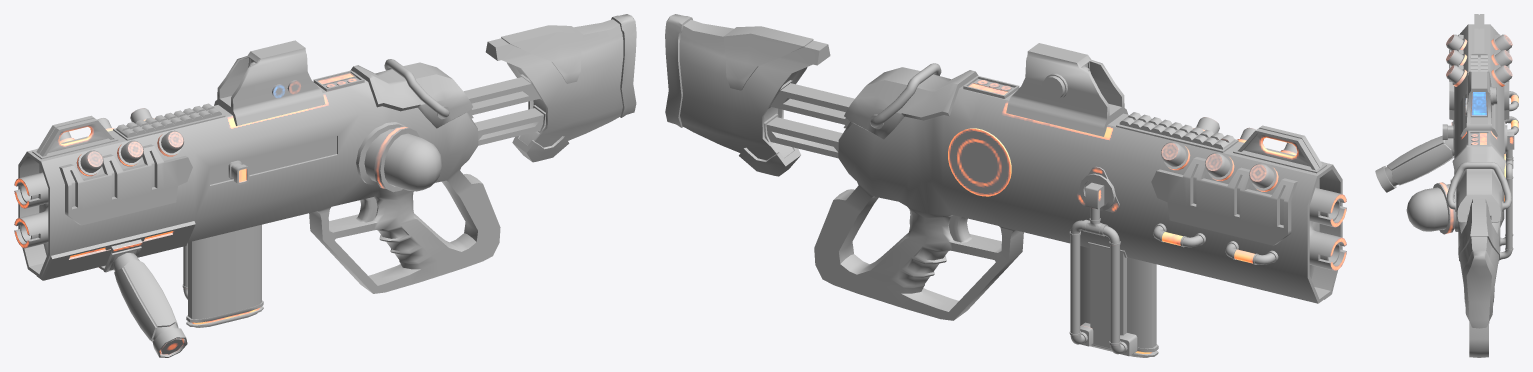
The picture shows the model from 3 angles, left to right: view 1: azimuth 30°, elevation 25°; view 2: azimuth 150°, elevation 25°; view 3: azimuth 270°, elevation 25°; orthographic projection. The views are drawn at different scales.
Parts seen in each view (by area): view 1: Base_low, Mids_low, Ends_low, Ends_2_low, Glass; view 2: Base_low, Mids_low, Ends_low, Ends_2_low; view 3: Mids_low, Ends_low, Base_low, Ends_2_low, Glass.
Boxes of the visible parts, x1,y1,x2,y2 form: Base_low: [18, 19, 623, 293]; Mids_low: [20, 14, 636, 341]; Ends_low: [14, 57, 543, 272]; Ends_2_low: [37, 64, 545, 357]; Glass: [384, 133, 442, 191]; Base_low: [679, 19, 1342, 320]; Mids_low: [665, 14, 1340, 357]; Ends_low: [766, 61, 1346, 356]; Ends_2_low: [764, 69, 1322, 354]; Mids_low: [1387, 14, 1507, 328]; Ends_low: [1433, 24, 1514, 263]; Base_low: [1454, 24, 1504, 357]; Ends_2_low: [1375, 34, 1518, 259]; Glass: [1406, 187, 1448, 231].
Bounding box in the file's own units: 2.12 × 0.8728 × 0.5536.
